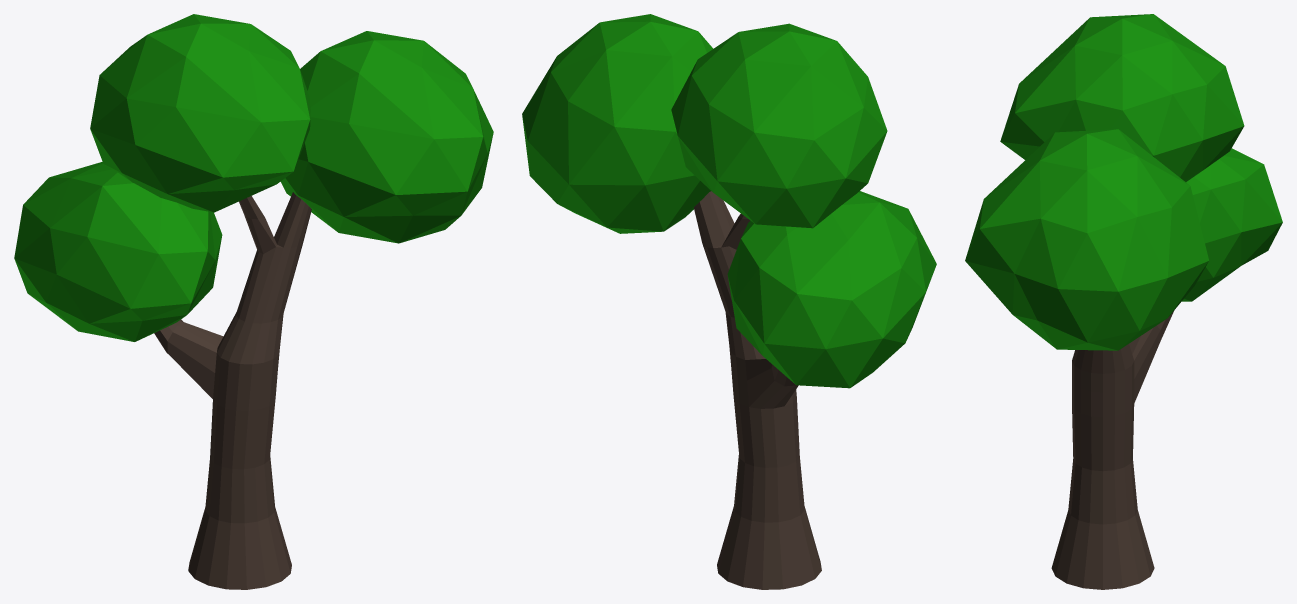
The model's file is Wood.fbx.
3 renders of one model, left to right at view 1: azimuth 30°, elevation 25°; view 2: azimuth 150°, elevation 25°; view 3: azimuth 270°, elevation 25°, orthographic. The views are drawn at different scales.
Visible parts, largest first — view 1: Tree; view 2: Tree; view 3: Tree.
Boxes of the visible parts, bbox=[...] form: Tree: bbox=[14, 14, 493, 589]; Tree: bbox=[522, 14, 936, 589]; Tree: bbox=[965, 14, 1282, 589].
Bounding box in the file's own units: 313 × 402 × 216.
